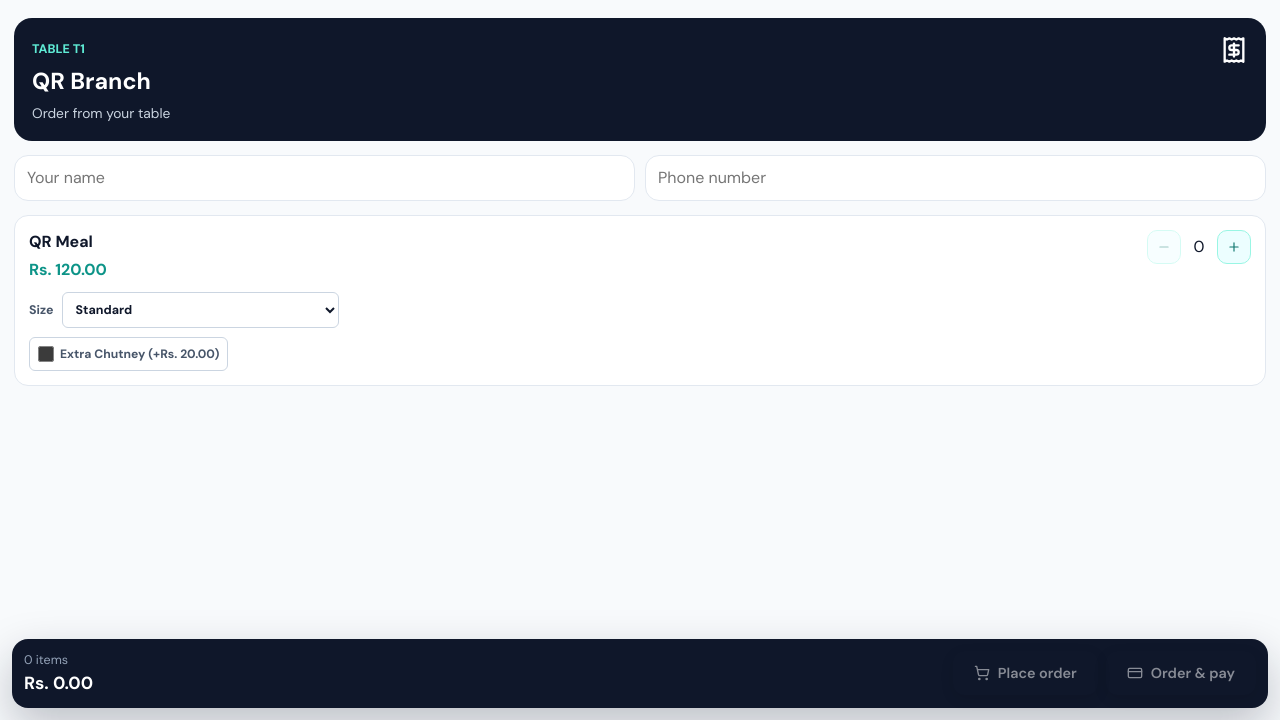
Test: QR ordering page › submits selected variants and add-ons without client prices
Later steps or results of the test are not shown.
Expected: the dropdown named "Size for QR Meal" is shown, top-left (62, 292), bottom-right (339, 328)
Expected: the checkbox named "Add Extra Chutney to QR Meal" is shown, top-left (38, 346), bottom-right (54, 362)
Click the button named "Add QR Meal": (1234, 247) top-left (1217, 230), bottom-right (1251, 264)
Select "Large (+Rs. 40.00)" in the dropdown named "Size for QR Meal": (200, 310) top-left (62, 292), bottom-right (339, 328)
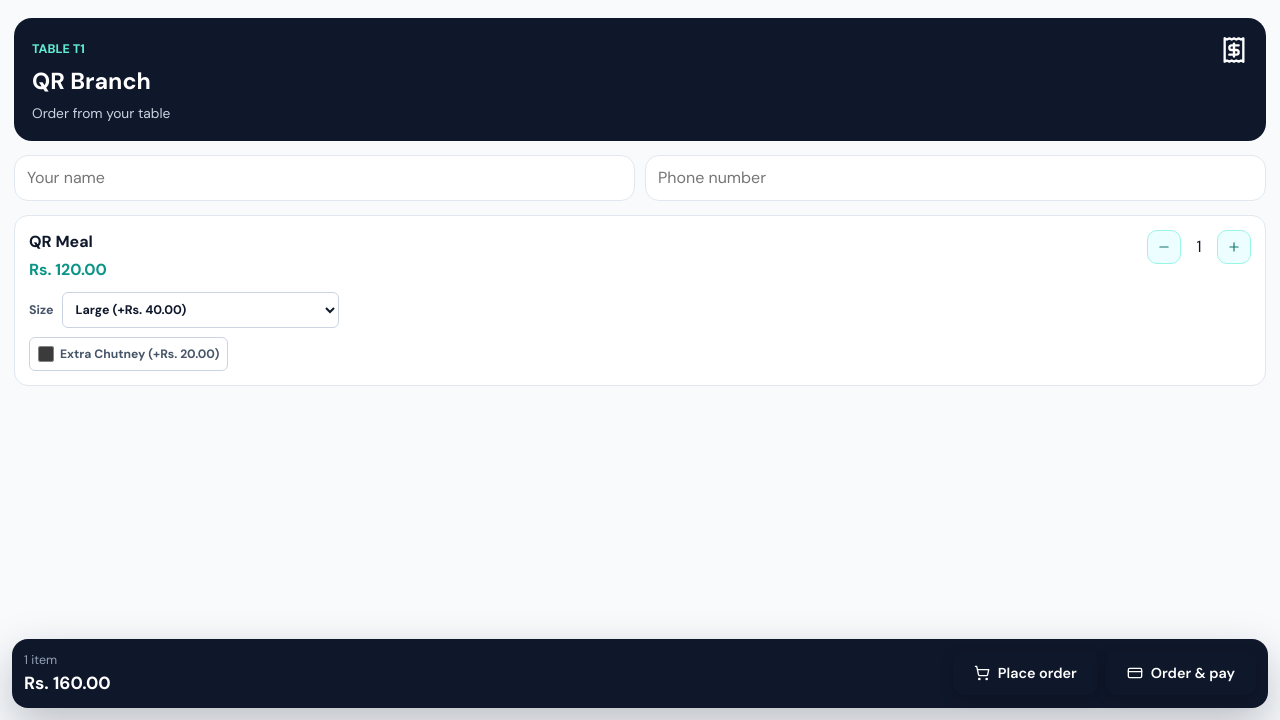
Click the checkbox named "Add Extra Chutney to QR Meal": (46, 354) top-left (38, 346), bottom-right (54, 362)
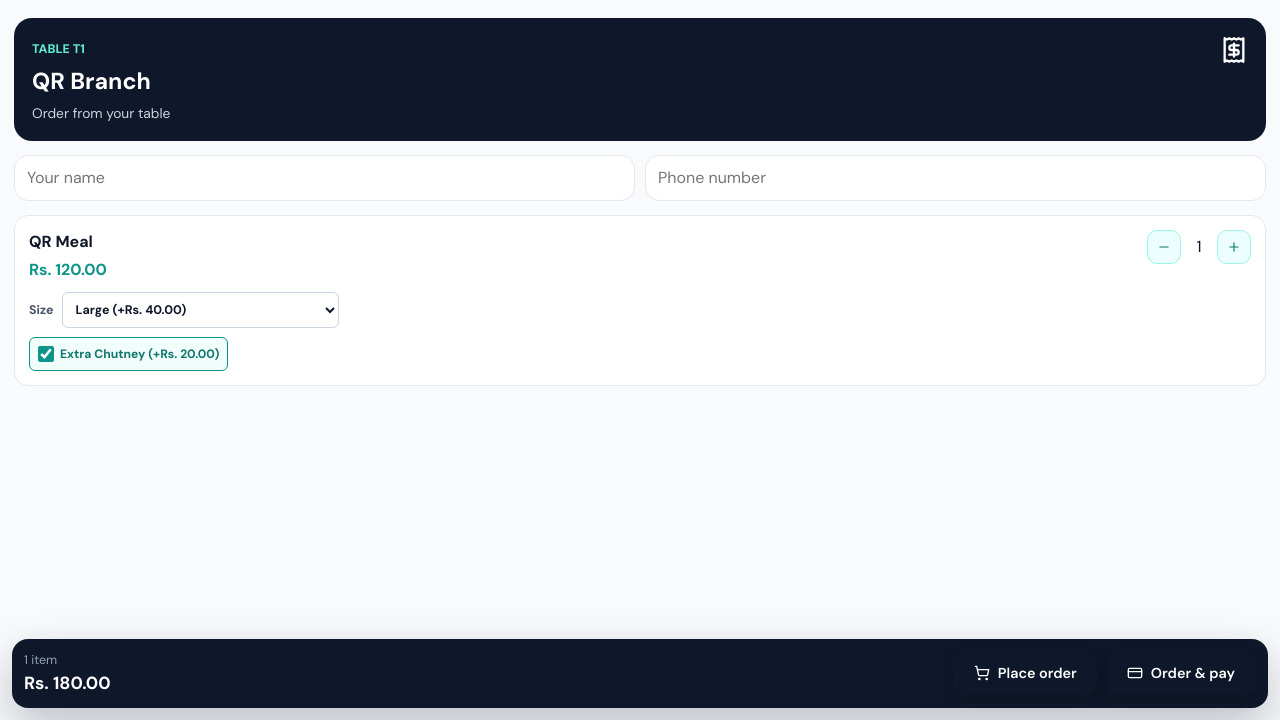
Expected: the text "Rs. 180.00" is shown, top-left (24, 672), bottom-right (111, 694)
